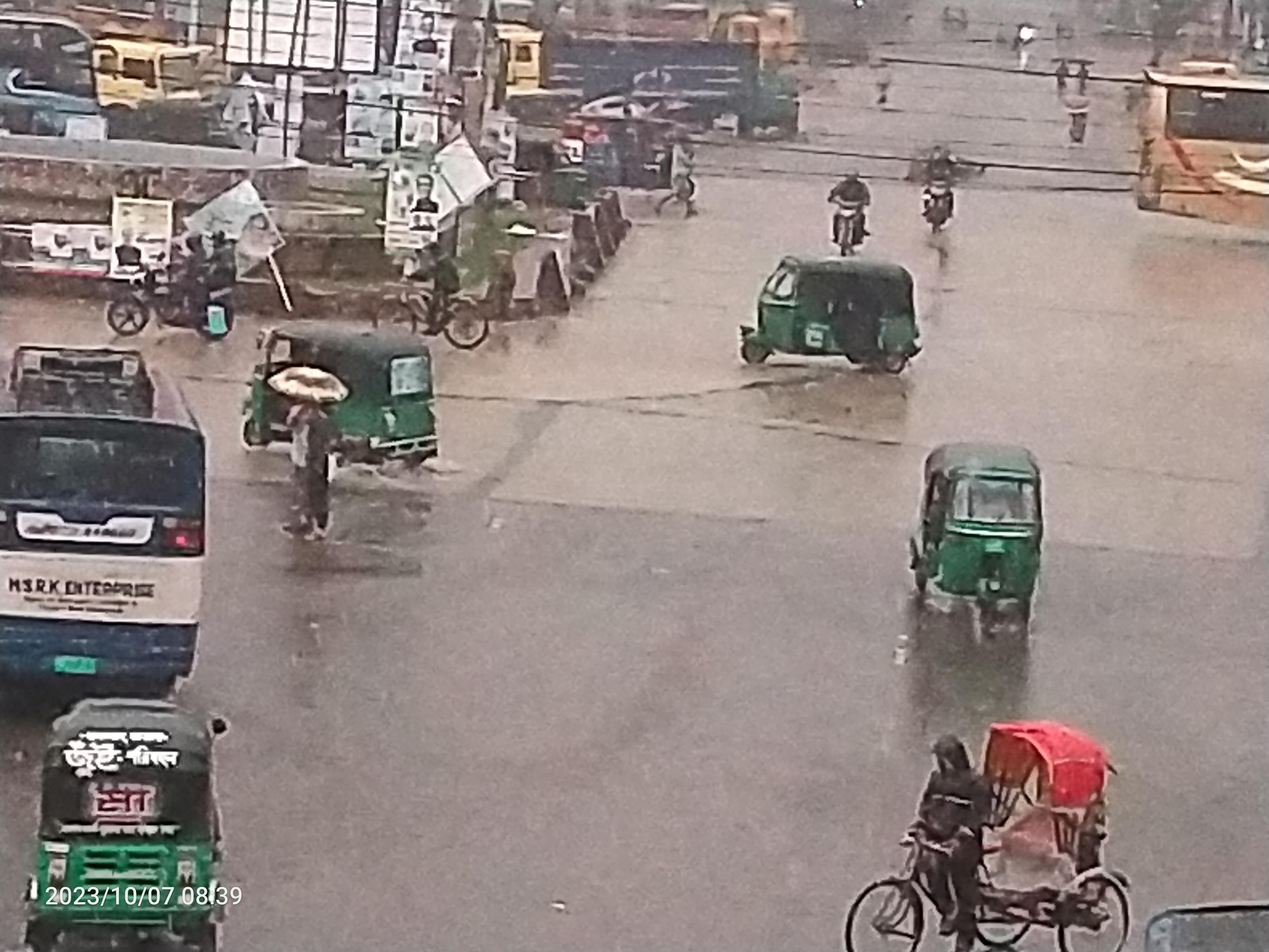Bike: (94, 208, 263, 335), (352, 228, 498, 359), (900, 137, 985, 255), (816, 162, 890, 269)
Bus: (0, 327, 240, 693), (1107, 47, 1269, 248), (0, 13, 137, 160)
Car: (801, 695, 1154, 952)
Truck: (455, 15, 781, 145)
